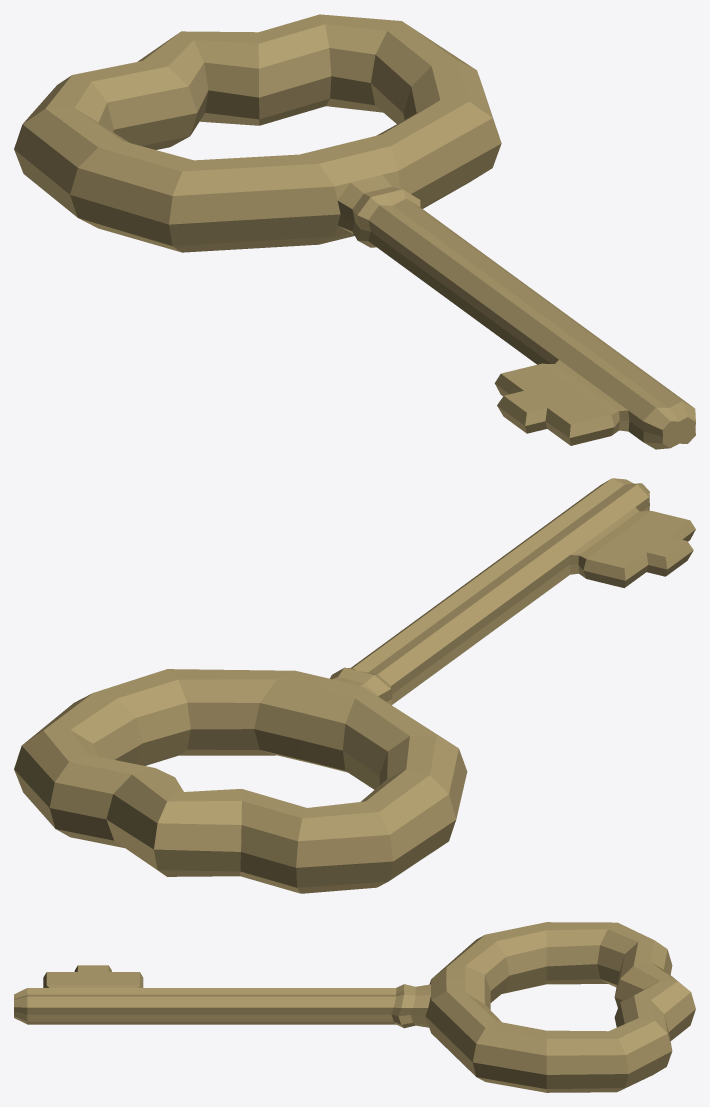
The model's file is key2.fbx.
3 views of the same model, one above another, from view 1: azimuth 30°, elevation 25°; view 2: azimuth 150°, elevation 25°; view 3: azimuth 270°, elevation 25° (orthographic). The views are drawn at different scales.
Parts seen in each view (by area): view 1: Key; view 2: Key; view 3: Key.
Part boxes in pixels (box(x1,y1,x2,y2)): Key: box(14, 14, 695, 449); Key: box(14, 478, 695, 893); Key: box(14, 922, 695, 1092).
Size of the model in its own units: 163 by 31.78 by 348.
